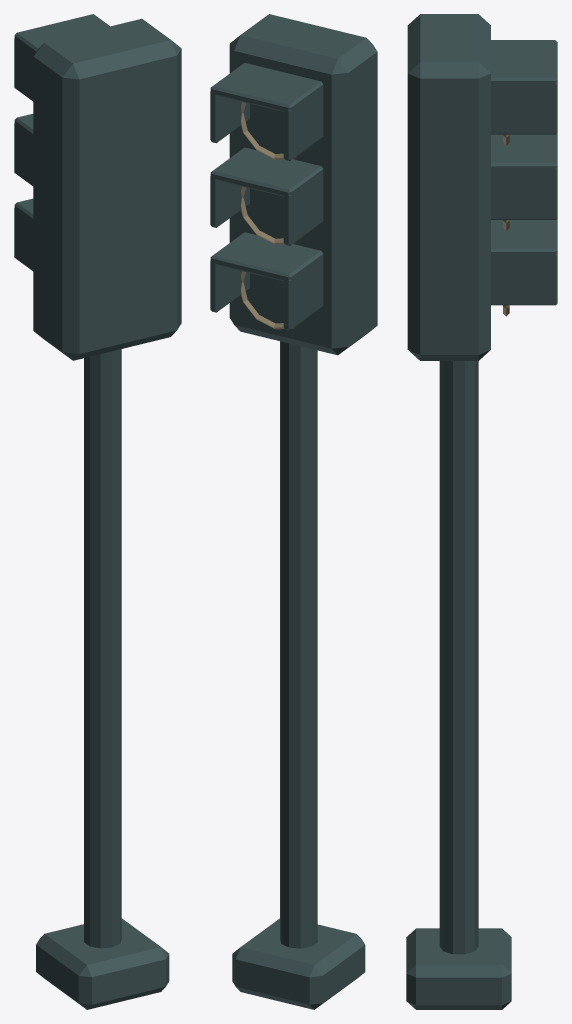
Rendered from signal.glb.
The picture shows the model from 3 angles, left to right: view 1: azimuth 30°, elevation 25°; view 2: azimuth 150°, elevation 25°; view 3: azimuth 270°, elevation 25°; orthographic projection.
Visible parts, largest first — view 1: PROP_Signal; view 2: PROP_Signal; view 3: PROP_Signal.
Boxes of the visible parts, x1=… form: PROP_Signal: x1=14, y1=14, x2=181, y2=1009; PROP_Signal: x1=210, y1=14, x2=377, y2=1009; PROP_Signal: x1=406, y1=14, x2=557, y2=1009.
Bounding box in the file's own units: 0.5 × 3.8 × 0.545.
